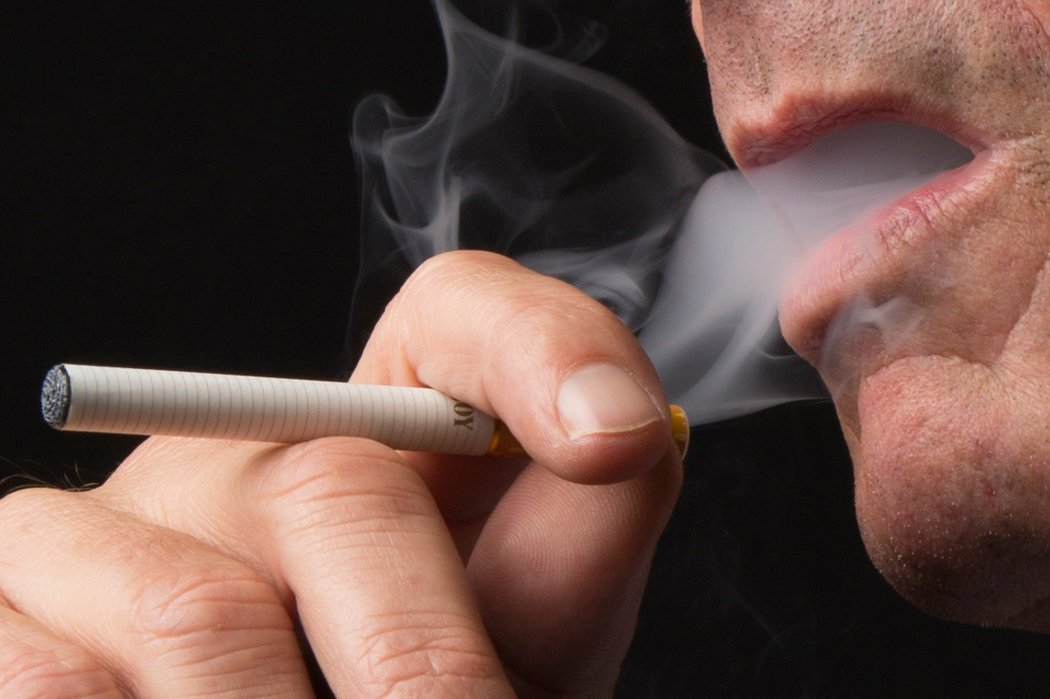cigarette: (29, 332, 656, 489)
